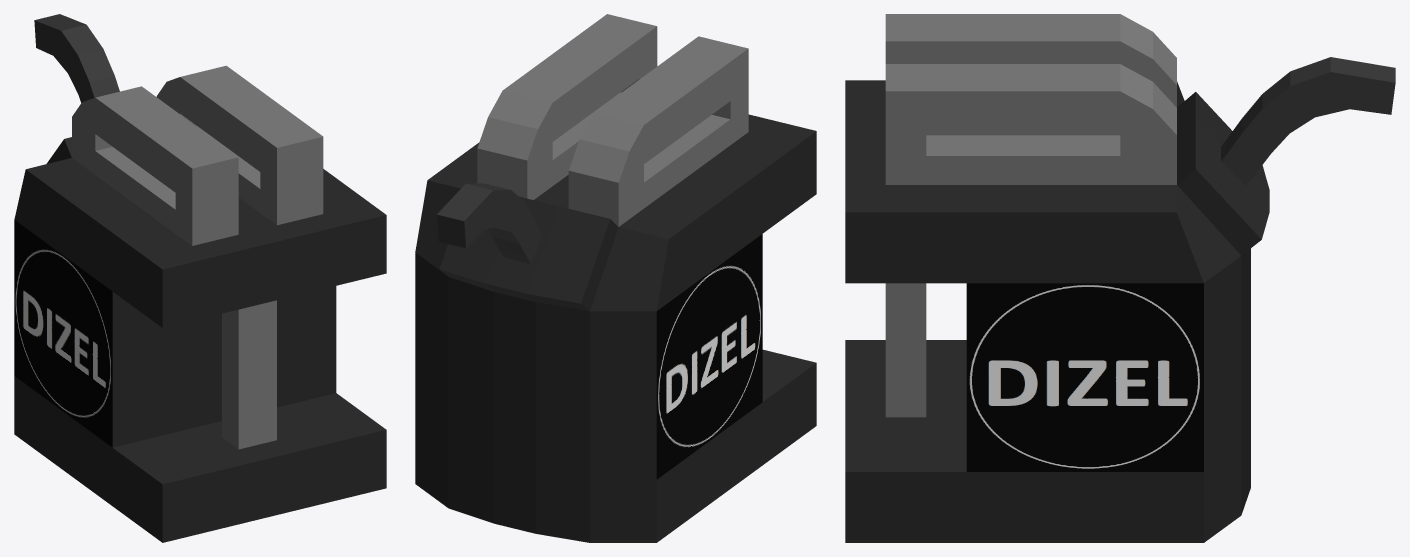
The model's file is gasoline.fbx.
3 renders of one model, left to right at view 1: azimuth 30°, elevation 25°; view 2: azimuth 150°, elevation 25°; view 3: azimuth 270°, elevation 25°, orthographic. The views are drawn at different scales.
Parts seen in each view (by area): view 1: Cube.001, Cube; view 2: Cube.001, Cube; view 3: Cube.001, Cube.
Boxes of the visible parts, x1,y1,x2,y2 form: Cube.001: (14, 65, 386, 542); Cube: (34, 14, 119, 102); Cube.001: (415, 14, 816, 542); Cube: (437, 183, 541, 263); Cube.001: (845, 14, 1269, 542); Cube: (1221, 57, 1395, 185).
Bounding box in the file's own units: 200 × 299 × 352.
Materials: 4 (1 with a texture image).
